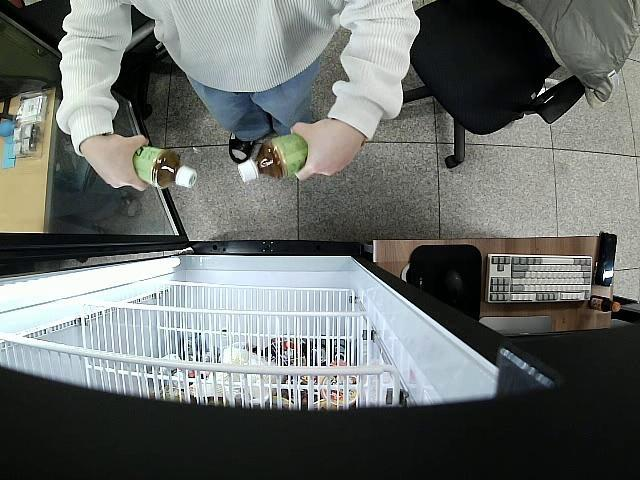19_17cha: (236, 133, 308, 185), (125, 148, 198, 189)
